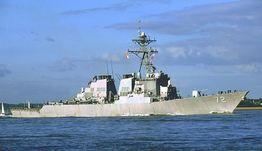warship: (12, 27, 249, 120)
